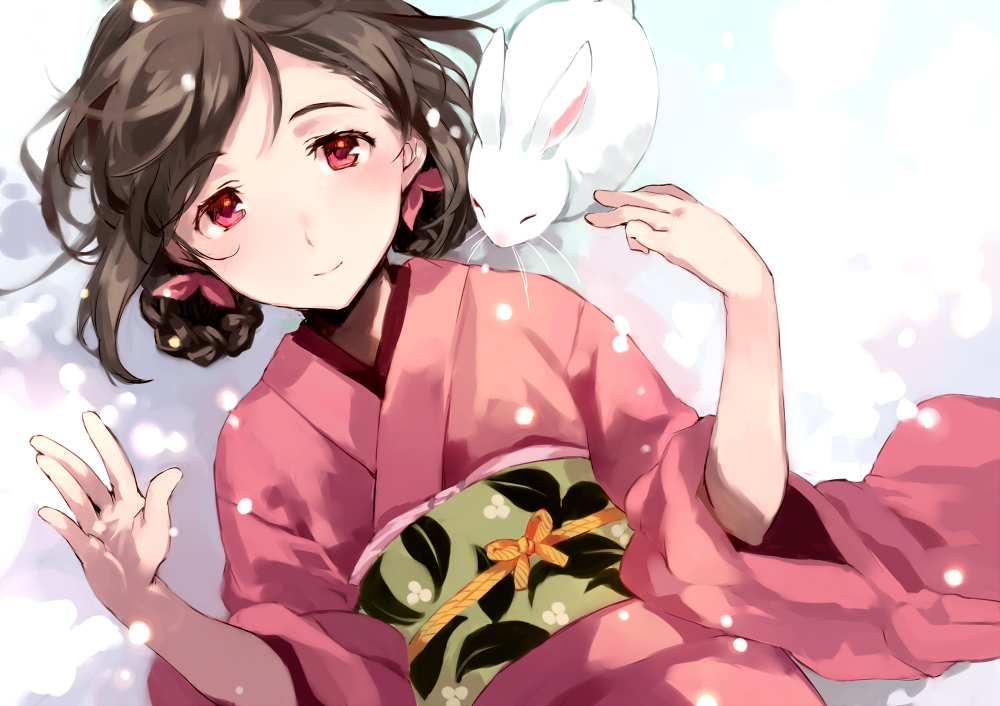纸片人正脸: (47, 0, 460, 317)
